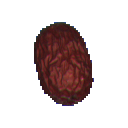gd: (17, 10, 104, 116)
